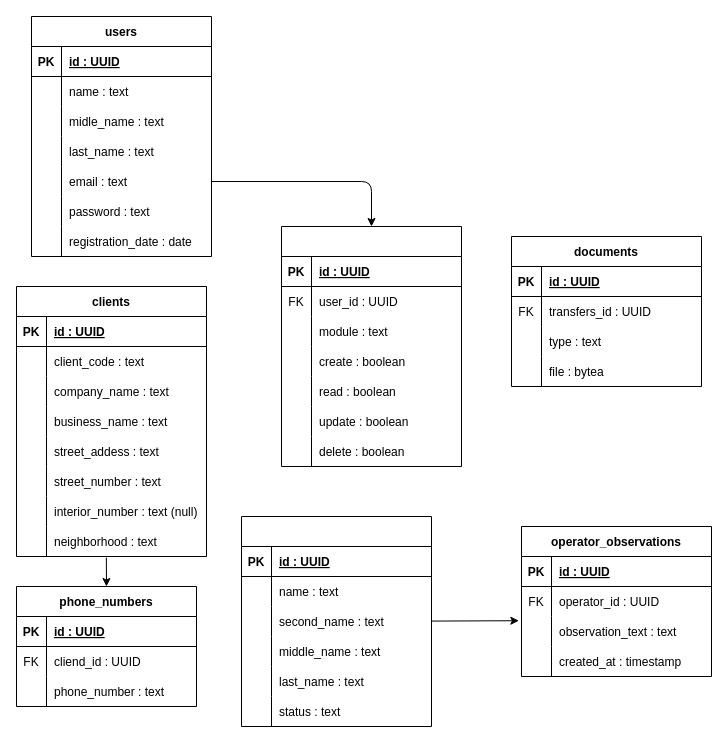
The diagram is 728 pixels wide and 743 high, and some of its shapes have lost their labels. The box of each missing label's shape, as (x1, y1, x2, y2) in pixels:
operators: (240, 516, 432, 726)
users_permissions: (280, 226, 462, 466)
